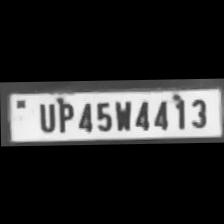1: (169, 95, 187, 129)
3: (186, 96, 210, 129)
4: (148, 96, 170, 130), (132, 96, 150, 130), (74, 99, 92, 132)
5: (92, 98, 112, 132)
P: (54, 100, 74, 132)
U: (34, 100, 56, 132)
W: (111, 97, 132, 131)
